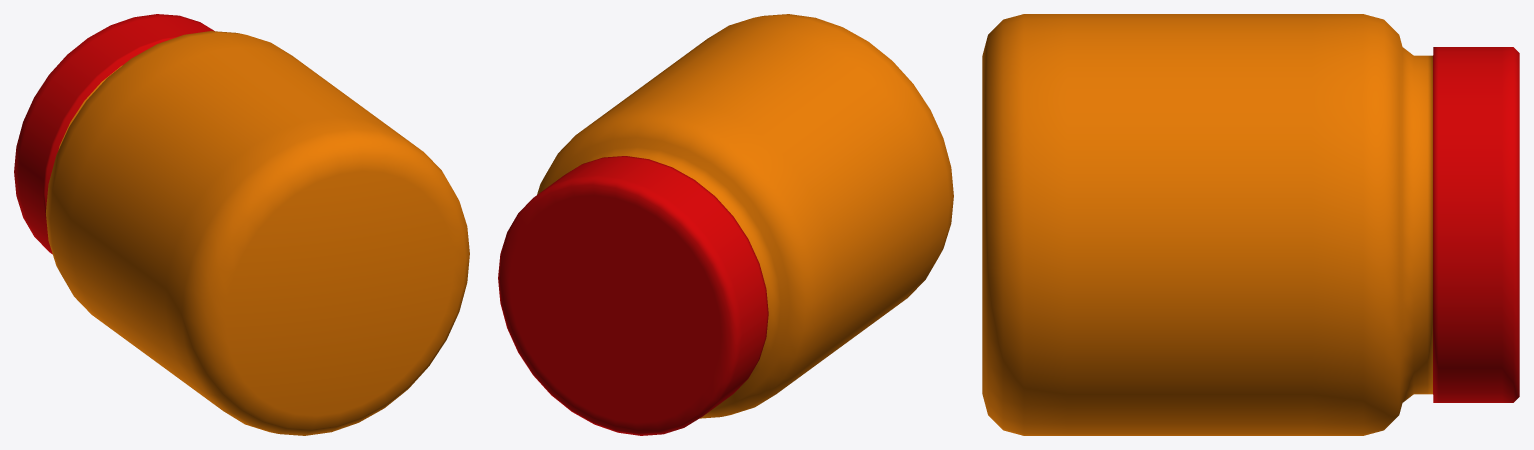
Rendered from Protein.fbx.
The picture shows the model from 3 angles, left to right: view 1: azimuth 30°, elevation 25°; view 2: azimuth 150°, elevation 25°; view 3: azimuth 270°, elevation 25°; orthographic projection. The views are drawn at different scales.
Visible parts, largest first — view 1: Cylinder; view 2: Cylinder; view 3: Cylinder.
Boxes of the visible parts, box(x1,y1,x2,y2) form: Cylinder: box(14, 14, 469, 435); Cylinder: box(498, 14, 953, 435); Cylinder: box(982, 14, 1519, 435).
Size of the model in its own units: 23.58 by 23.58 by 29.98.
